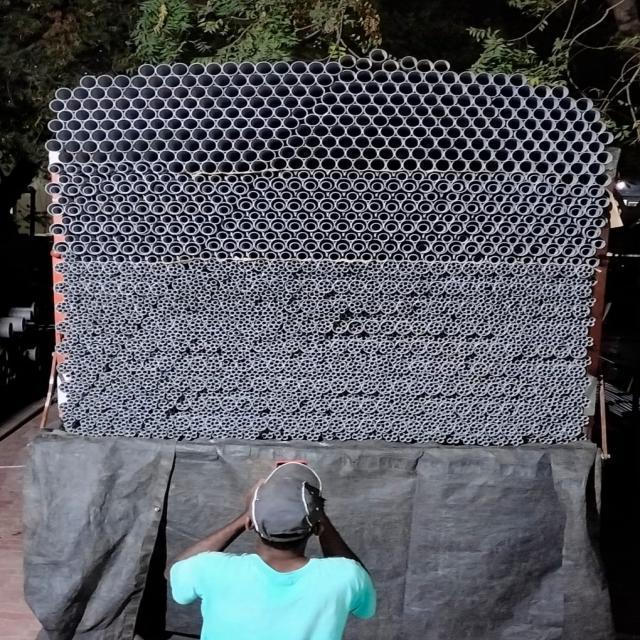pipe: (163, 80, 396, 157), (0, 34, 147, 146), (132, 96, 298, 186), (10, 190, 156, 268), (222, 219, 352, 301), (221, 380, 315, 480), (200, 143, 311, 227), (82, 190, 203, 263), (0, 198, 126, 254), (264, 143, 366, 212), (226, 224, 339, 284), (162, 158, 268, 220), (446, 114, 528, 194), (468, 328, 556, 402), (427, 325, 533, 386), (90, 101, 214, 149), (315, 126, 397, 198), (48, 80, 148, 139), (136, 130, 228, 194), (235, 222, 352, 272), (269, 290, 343, 357), (366, 205, 465, 255), (114, 272, 229, 313), (293, 285, 369, 346), (314, 103, 417, 148), (355, 184, 449, 233), (424, 308, 516, 358), (193, 70, 266, 133), (304, 286, 385, 342), (82, 213, 156, 271), (134, 257, 223, 305), (112, 373, 185, 431), (60, 313, 125, 378), (271, 174, 359, 222), (341, 285, 405, 349), (351, 177, 417, 238), (417, 168, 508, 211), (165, 179, 258, 221), (166, 338, 260, 378), (430, 193, 480, 268), (64, 390, 150, 433), (42, 181, 120, 228), (47, 269, 123, 317), (357, 406, 452, 444), (473, 229, 548, 277), (385, 187, 458, 236), (265, 292, 348, 335), (455, 352, 548, 390), (459, 268, 531, 317), (418, 354, 500, 397), (183, 225, 247, 280), (83, 133, 154, 182), (225, 280, 293, 331), (447, 291, 531, 332), (88, 199, 172, 239), (537, 352, 581, 428), (386, 349, 470, 388), (388, 254, 454, 299), (199, 334, 281, 370), (82, 219, 154, 258), (276, 319, 333, 368), (402, 68, 469, 108), (233, 391, 303, 428), (248, 404, 319, 439), (359, 212, 418, 254), (226, 108, 288, 147), (355, 372, 411, 415), (221, 120, 266, 172), (356, 303, 406, 349), (51, 355, 142, 380), (385, 134, 463, 163), (232, 181, 289, 220), (306, 136, 371, 170), (172, 185, 230, 223), (76, 200, 114, 258), (211, 381, 273, 416), (147, 289, 214, 320), (252, 366, 335, 390), (284, 87, 348, 118), (109, 354, 156, 396), (224, 258, 293, 285), (322, 356, 396, 381), (289, 344, 339, 381), (116, 291, 163, 330), (123, 90, 185, 119), (325, 376, 378, 409), (230, 335, 275, 373), (84, 277, 110, 340), (422, 236, 445, 307), (506, 232, 554, 266), (229, 187, 303, 209), (353, 376, 418, 401), (91, 139, 136, 175), (129, 388, 196, 412), (303, 91, 358, 120), (78, 336, 129, 367), (145, 396, 250, 411), (546, 229, 583, 271), (471, 355, 518, 387), (282, 412, 355, 432), (216, 259, 257, 294), (505, 108, 556, 136), (64, 104, 106, 138), (142, 169, 182, 204), (450, 417, 513, 439), (481, 90, 535, 115), (141, 219, 191, 246), (95, 304, 133, 339), (318, 335, 357, 368), (540, 133, 582, 163), (490, 103, 506, 178), (304, 181, 344, 210), (203, 118, 234, 154), (299, 221, 331, 255), (81, 246, 109, 284), (156, 182, 204, 204), (141, 397, 186, 420), (97, 299, 138, 324), (88, 387, 117, 422), (446, 399, 482, 427), (227, 282, 265, 308), (217, 322, 274, 339), (188, 192, 232, 214), (99, 304, 141, 327), (78, 293, 97, 341), (123, 319, 162, 340), (436, 90, 481, 108), (418, 72, 460, 91), (88, 412, 131, 430), (155, 328, 197, 346), (171, 235, 208, 255), (539, 104, 574, 125), (242, 416, 304, 427), (437, 431, 485, 444), (64, 344, 103, 360), (546, 293, 562, 330), (222, 136, 254, 153), (81, 249, 90, 306), (369, 46, 391, 66), (380, 368, 388, 420), (254, 61, 276, 78), (536, 198, 564, 211), (171, 106, 193, 122), (419, 390, 434, 413), (266, 157, 290, 171), (481, 291, 495, 315), (84, 94, 109, 107), (51, 176, 69, 194), (200, 161, 220, 175), (132, 142, 151, 155), (543, 281, 560, 295), (282, 96, 300, 109), (374, 93, 392, 106), (175, 86, 193, 99), (415, 137, 438, 147), (318, 219, 334, 233), (479, 148, 496, 161), (321, 115, 341, 126), (514, 227, 535, 237), (463, 244, 482, 255), (206, 64, 222, 77), (287, 240, 304, 252), (360, 349, 400, 354), (124, 109, 142, 120), (353, 238, 366, 253), (287, 220, 302, 233), (318, 72, 331, 87), (218, 97, 233, 110), (255, 242, 270, 254), (320, 135, 335, 147), (547, 169, 565, 179), (326, 252, 342, 263), (201, 120, 217, 131), (420, 347, 432, 361), (198, 251, 213, 260), (378, 213, 391, 223), (438, 430, 452, 439), (256, 182, 268, 192), (498, 426, 513, 434), (208, 241, 221, 250), (169, 225, 183, 233), (338, 201, 348, 212), (217, 232, 229, 240), (481, 324, 493, 330), (287, 324, 297, 331), (171, 271, 179, 278), (229, 323, 236, 331), (357, 344, 364, 351), (108, 270, 116, 276), (179, 281, 188, 286), (199, 262, 207, 267), (145, 274, 154, 278), (139, 282, 145, 288), (162, 359, 169, 364), (80, 266, 87, 271), (96, 286, 104, 290), (188, 270, 194, 275), (159, 367, 166, 371), (362, 299, 369, 303), (121, 268, 126, 273), (322, 324, 326, 330), (180, 363, 184, 368), (163, 363, 167, 367), (159, 361, 163, 365), (167, 362, 172, 365), (230, 474, 231, 479)
